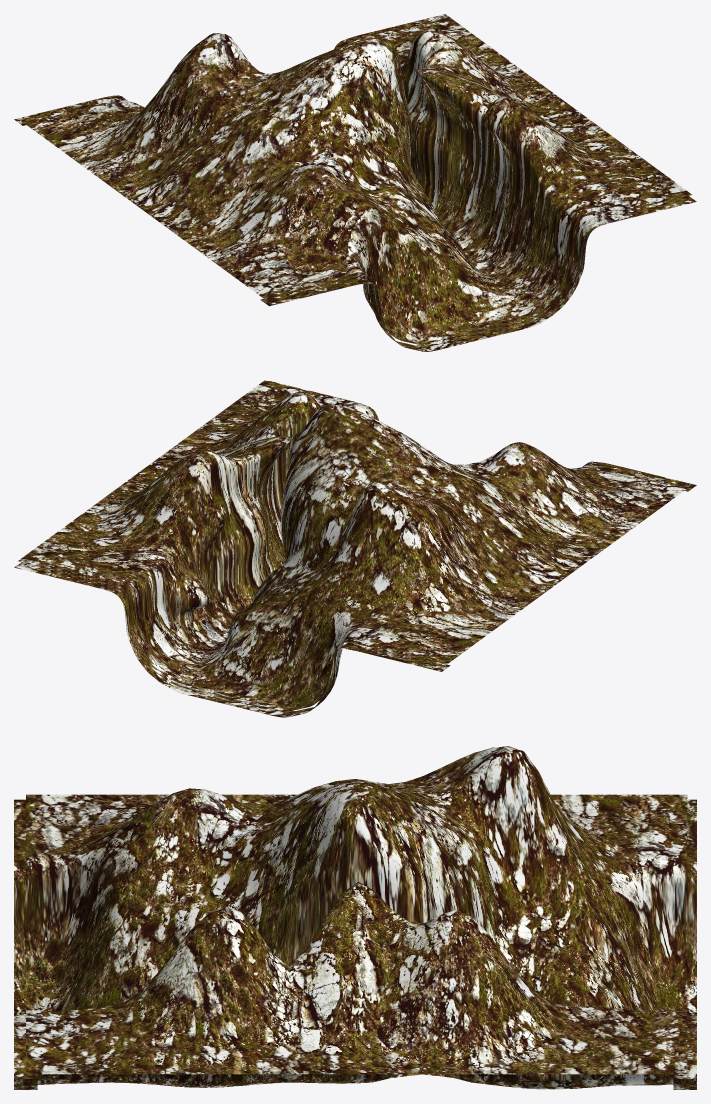
3 renders of one model, top to bottom at view 1: azimuth 30°, elevation 25°; view 2: azimuth 150°, elevation 25°; view 3: azimuth 270°, elevation 25°, orthographic. The views are drawn at different scales.
Parts seen in each view (by area): view 1: Curve_flat; view 2: Curve_flat; view 3: Curve_flat.
Part boxes in pixels (x1=…): Curve_flat: x1=14, y1=14, x2=696, y2=351; Curve_flat: x1=14, y1=380, x2=696, y2=717; Curve_flat: x1=14, y1=746, x2=696, y2=1089.
Size of the model in its own units: 1000 by 451 by 1033.
